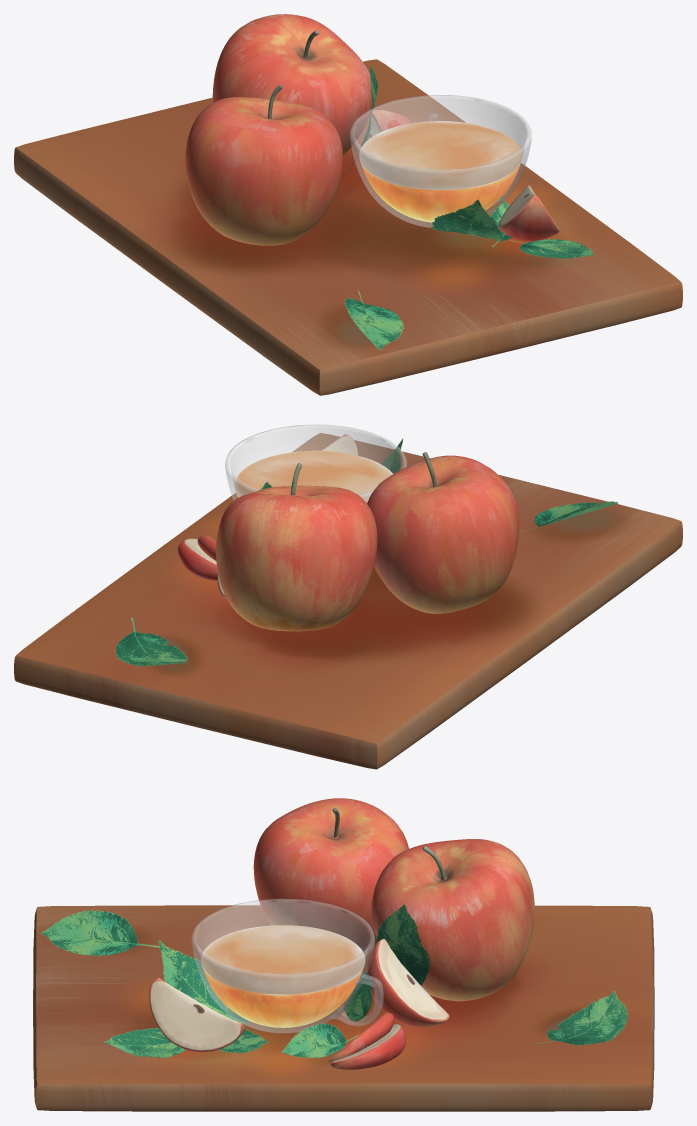
File: apfeltee_better.glb
3 views of the same model, one above another, from view 1: azimuth 30°, elevation 25°; view 2: azimuth 150°, elevation 25°; view 3: azimuth 270°, elevation 25° (orthographic).
Parts seen in each view (by area): view 1: board, apple2, glas.001, apple1, tea, slice1, Plane.009, Plane.003, Plane.007, slice2; view 2: board, apple1, apple2, glas.001, tea, Plane.010, slice3, Plane.009; view 3: board, apple1, apple2, glas.001, tea, slice1, slice2, Plane.009, Plane.010, Plane.003, Plane.004, Plane.006 (+6 smaller).
Boxes of the visible parts, bbox=[...] form: board: bbox=[14, 59, 682, 395]; apple2: bbox=[185, 84, 342, 245]; glas.001: bbox=[350, 95, 531, 227]; apple1: bbox=[212, 14, 372, 155]; tea: bbox=[359, 121, 522, 222]; slice1: bbox=[498, 185, 559, 240]; Plane.009: bbox=[345, 290, 403, 349]; Plane.003: bbox=[430, 199, 503, 240]; Plane.007: bbox=[510, 239, 594, 258]; slice2: bbox=[368, 110, 411, 139]; board: bbox=[14, 433, 682, 769]; apple1: bbox=[216, 463, 377, 631]; apple2: bbox=[367, 452, 519, 613]; glas.001: bbox=[225, 424, 407, 502]; tea: bbox=[234, 450, 392, 502]; Plane.010: bbox=[115, 617, 188, 665]; slice3: bbox=[178, 538, 217, 580]; Plane.009: bbox=[519, 501, 618, 532]; board: bbox=[33, 905, 654, 1111]; apple1: bbox=[371, 839, 534, 1001]; apple2: bbox=[253, 798, 408, 951]; glas.001: bbox=[191, 898, 374, 1033]; tea: bbox=[201, 925, 365, 1027]; slice1: bbox=[149, 977, 245, 1051]; slice2: bbox=[367, 939, 449, 1027]; Plane.009: bbox=[39, 910, 159, 955]; Plane.010: bbox=[536, 990, 628, 1044]; Plane.003: bbox=[158, 940, 248, 1023]; Plane.004: bbox=[376, 904, 430, 985]; Plane.006: bbox=[281, 1023, 358, 1057].
Size of the model in its own units: 5.78 by 2.73 by 9.02.
Materials: 9 (8 with a texture image).
